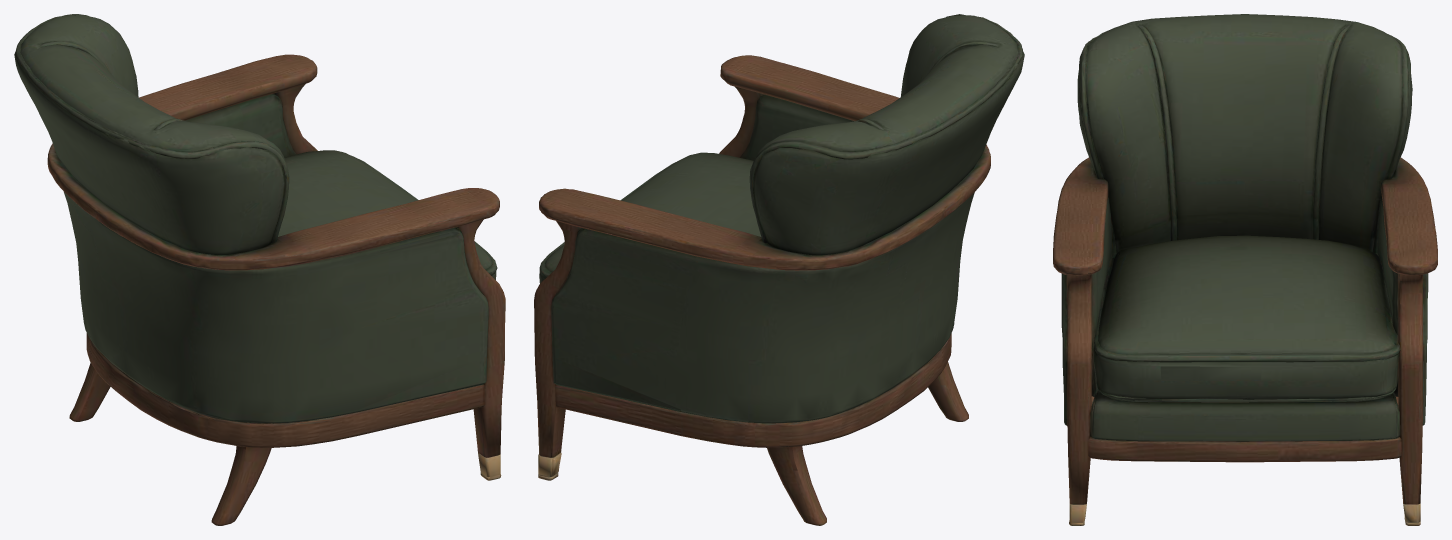
The model's file is armchair.glb.
The picture shows the model from 3 angles, left to right: view 1: azimuth 30°, elevation 25°; view 2: azimuth 150°, elevation 25°; view 3: azimuth 270°, elevation 25°; orthographic projection. The views are drawn at different scales.
Visible parts, largest first — view 1: armchair; view 2: armchair; view 3: armchair.
Part boxes in pixels (x1=…): armchair: x1=14, y1=14, x2=505, y2=525; armchair: x1=534, y1=14, x2=1024, y2=525; armchair: x1=1053, y1=14, x2=1437, y2=525.
Size of the model in its own units: 0.8753 by 0.9 by 0.8577.
Materials: 1 (1 with a texture image).
